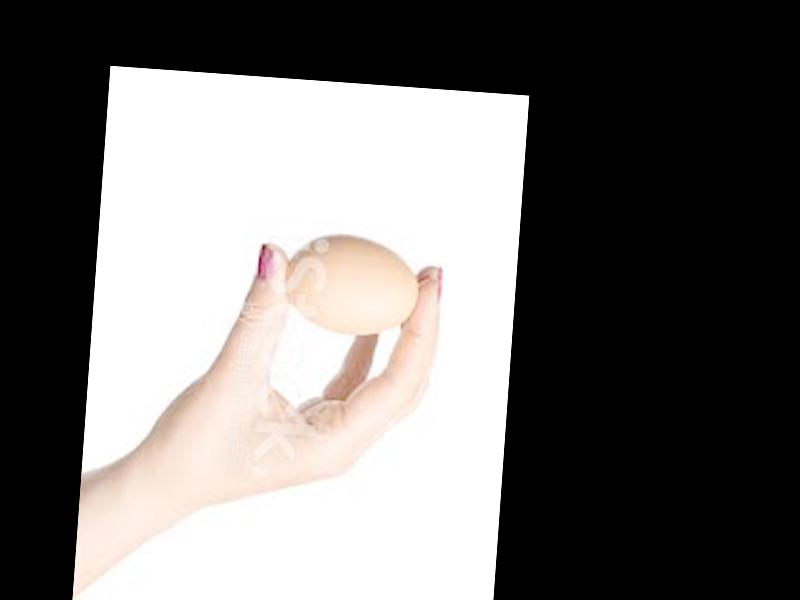Eggs: (281, 234, 421, 337)
